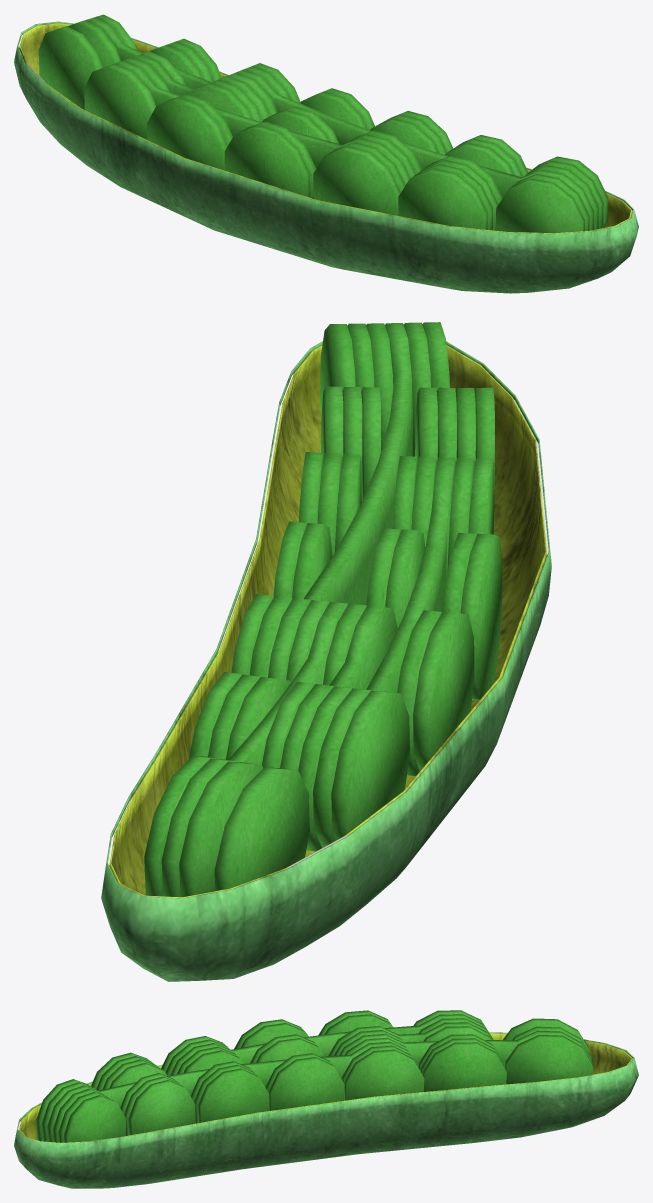
The model's file is ChloroplastSlice.fbx.
3 renders of one model, top to bottom at view 1: azimuth 30°, elevation 25°; view 2: azimuth 150°, elevation 25°; view 3: azimuth 270°, elevation 25°, orthographic. The views are drawn at different scales.
Visible parts, largest first — view 1: ChloroplastGranum, ChloroplastOuterMembrane, ChloroplastStromaLamellae, ChloroplastInnerMembrane, ChloroplastThylakoid; view 2: ChloroplastGranum, ChloroplastOuterMembrane, ChloroplastStromaLamellae, ChloroplastInnerMembrane, ChloroplastThylakoid, ChloroplastIntermembraneSpace; view 3: ChloroplastGranum, ChloroplastOuterMembrane, ChloroplastStromaLamellae, ChloroplastThylakoid, ChloroplastInnerMembrane.
Part boxes in pixels (bbox=[...]): ChloroplastGranum: bbox=[38, 14, 603, 232]; ChloroplastOuterMembrane: bbox=[14, 21, 638, 293]; ChloroplastStromaLamellae: bbox=[85, 17, 593, 230]; ChloroplastInnerMembrane: bbox=[19, 23, 632, 233]; ChloroplastThylakoid: bbox=[534, 156, 608, 228]; ChloroplastGranum: bbox=[144, 322, 502, 897]; ChloroplastOuterMembrane: bbox=[101, 341, 551, 981]; ChloroplastStromaLamellae: bbox=[161, 323, 455, 896]; ChloroplastInnerMembrane: bbox=[109, 345, 547, 898]; ChloroplastThylakoid: bbox=[320, 324, 355, 417]; ChloroplastIntermembraneSpace: bbox=[108, 374, 548, 865]; ChloroplastGranum: bbox=[36, 1010, 593, 1142]; ChloroplastOuterMembrane: bbox=[14, 1032, 638, 1188]; ChloroplastStromaLamellae: bbox=[47, 1014, 592, 1142]; ChloroplastThylakoid: bbox=[63, 1095, 125, 1142]; ChloroplastInnerMembrane: bbox=[19, 1033, 632, 1142].
Bounding box in the file's own units: 1.6 × 0.7012 × 3.39.
